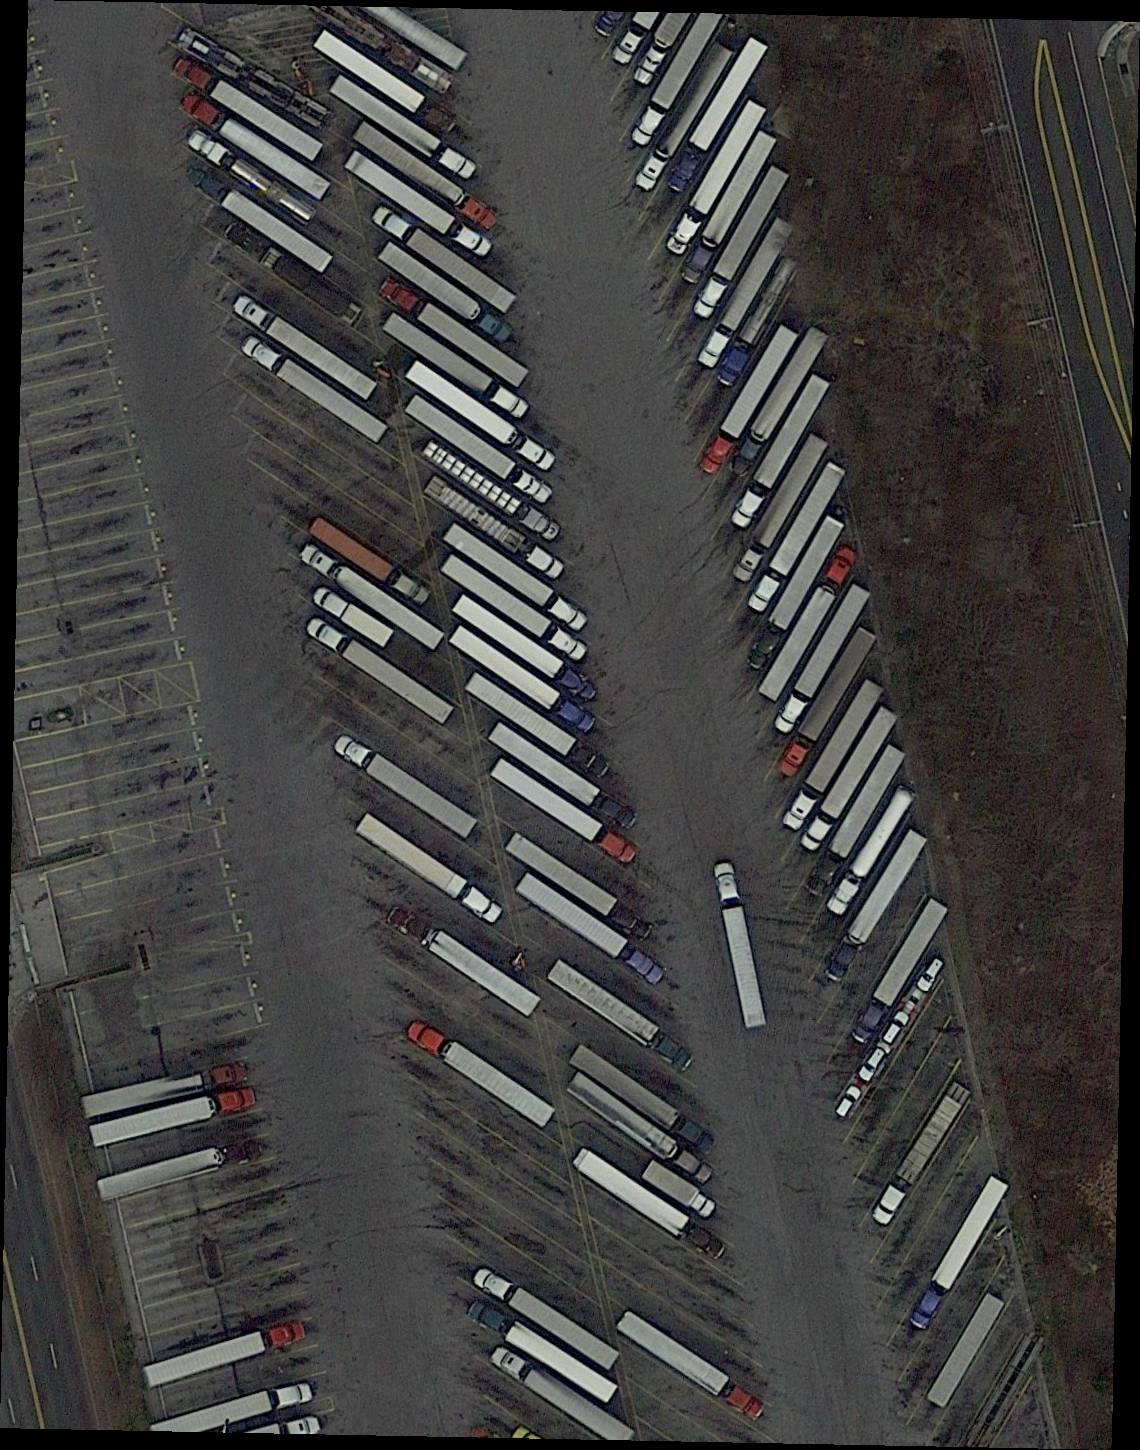large vehicle: (571, 1146, 726, 1262), (385, 905, 541, 1019), (404, 359, 558, 472), (546, 959, 695, 1075), (179, 89, 333, 201), (615, 1309, 767, 1422), (516, 873, 666, 987), (354, 813, 505, 926), (379, 278, 529, 390), (405, 397, 555, 507), (239, 335, 391, 445), (569, 1045, 718, 1157), (566, 1073, 715, 1184), (351, 120, 500, 231), (439, 553, 589, 663), (184, 165, 334, 274), (665, 38, 768, 197), (407, 1019, 556, 1129), (305, 616, 454, 725), (309, 27, 459, 137), (664, 100, 767, 258), (333, 731, 480, 842), (824, 829, 928, 984), (173, 55, 325, 162), (449, 625, 596, 734), (489, 723, 638, 831), (345, 151, 494, 258), (505, 834, 652, 943), (382, 313, 529, 421), (444, 524, 591, 632), (453, 596, 599, 704), (232, 293, 378, 401), (782, 679, 885, 833), (805, 744, 907, 898), (731, 374, 832, 530), (489, 759, 638, 865), (371, 206, 519, 312), (909, 1176, 1009, 1332), (464, 672, 609, 779), (756, 548, 858, 703), (329, 77, 478, 181), (468, 1301, 618, 1404), (472, 1266, 621, 1370), (699, 325, 801, 475), (696, 217, 796, 371), (747, 463, 848, 614), (729, 326, 831, 478), (747, 516, 846, 670), (773, 584, 872, 738), (694, 165, 791, 321), (778, 627, 878, 778), (732, 434, 831, 586), (634, 42, 734, 192), (871, 1082, 972, 1229), (681, 129, 776, 285), (425, 477, 566, 581), (421, 439, 562, 543), (852, 898, 949, 1047), (801, 706, 899, 854), (378, 241, 515, 346), (826, 785, 918, 918), (716, 258, 802, 390), (308, 517, 432, 607), (144, 1321, 307, 1389), (98, 1139, 264, 1204), (89, 1087, 256, 1148), (332, 565, 446, 651), (82, 1063, 247, 1118), (713, 864, 767, 1031), (311, 585, 396, 648), (640, 1160, 718, 1220)
